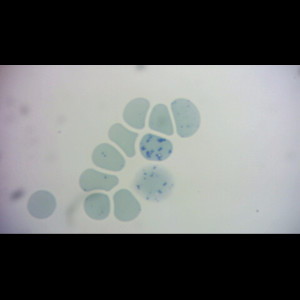aggregate reticulocyte: (137, 132, 175, 163)
erythrocyte: (106, 122, 140, 160), (111, 187, 143, 223), (26, 189, 58, 220), (147, 103, 176, 137)
punctate reticulocyte: (168, 97, 202, 139), (90, 142, 128, 173), (77, 167, 121, 193), (121, 95, 151, 131), (82, 191, 112, 221)
